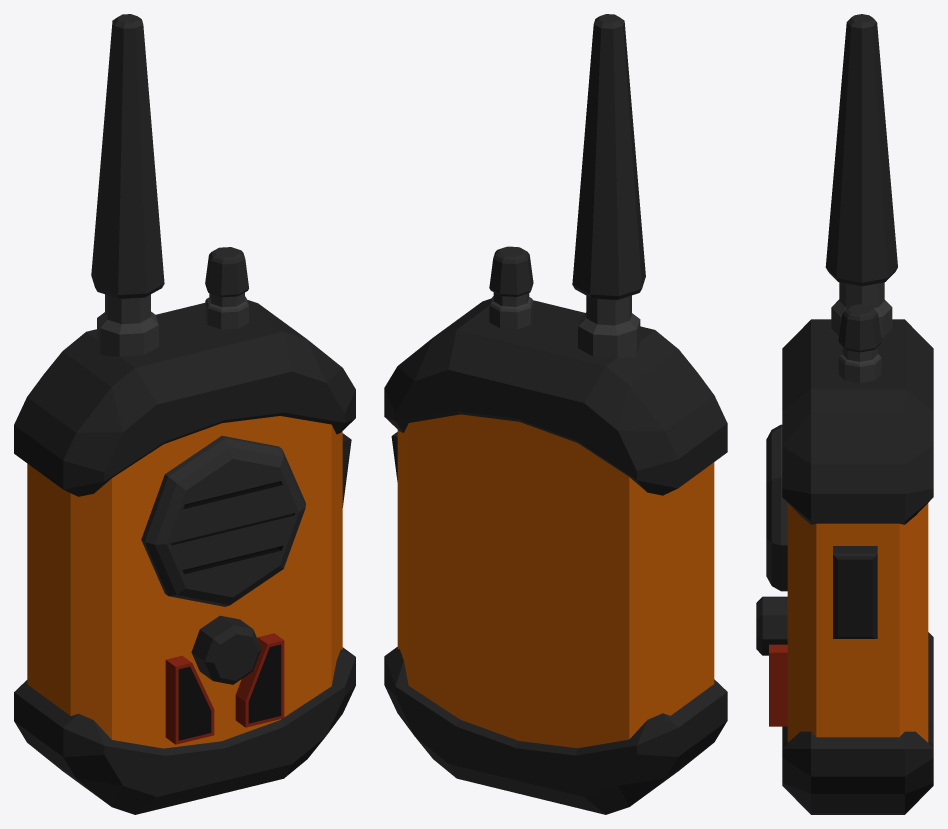
File: Walkie Talkie.fbx
3 views of the same model, side by side, from view 1: azimuth 30°, elevation 25°; view 2: azimuth 150°, elevation 25°; view 3: azimuth 270°, elevation 25° (orthographic). The views are drawn at different scales.
Visible parts, largest first — view 1: Cube.028; view 2: Cube.028; view 3: Cube.028.
Part boxes in pixels (left/top/right/bottom): Cube.028: left=14, top=14, right=355, bottom=814; Cube.028: left=384, top=14, right=727, bottom=814; Cube.028: left=756, top=14, right=933, bottom=814.
Size of the model in its own units: 24.28 by 59.33 by 12.94.
